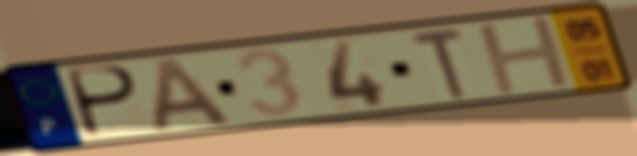3: (234, 45, 310, 121)
4: (323, 37, 395, 111)
A: (149, 54, 237, 135)
H: (472, 13, 578, 99)
P: (66, 63, 144, 141)
T: (406, 26, 472, 102)
